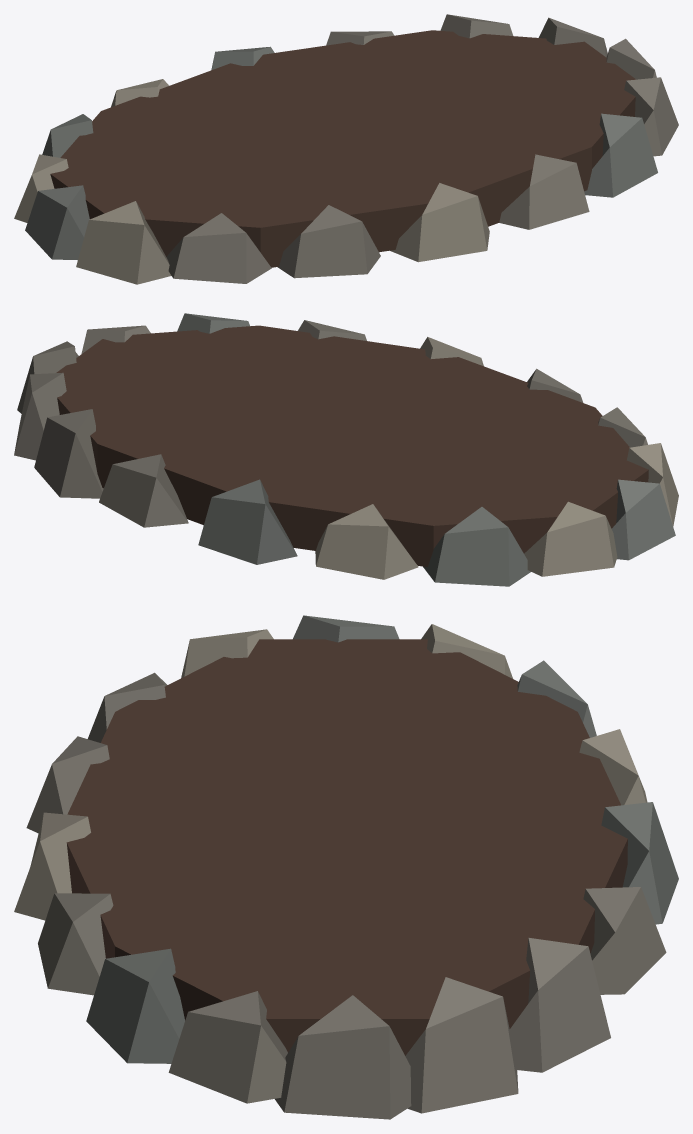
Rendered from fieldstone_bed.glb.
3 views of the same model, one above another, from view 1: azimuth 30°, elevation 25°; view 2: azimuth 150°, elevation 25°; view 3: azimuth 270°, elevation 25° (orthographic). The views are drawn at different scales.
Visible parts, largest first — view 1: fieldstone_bed; view 2: fieldstone_bed; view 3: fieldstone_bed.
Boxes of the visible parts, x1,y1,x2,y2 form: fieldstone_bed: (14,14,678,284); fieldstone_bed: (14,313,678,586); fieldstone_bed: (14,615,678,1119).
Bounding box in the file's own units: 3.12 × 0.3322 × 2.
